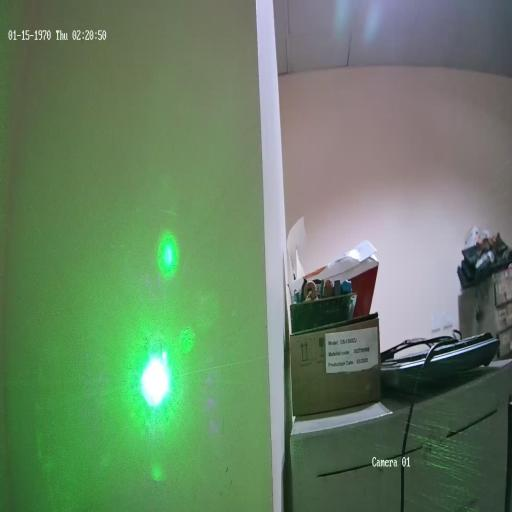laser: (134, 341, 172, 410)
